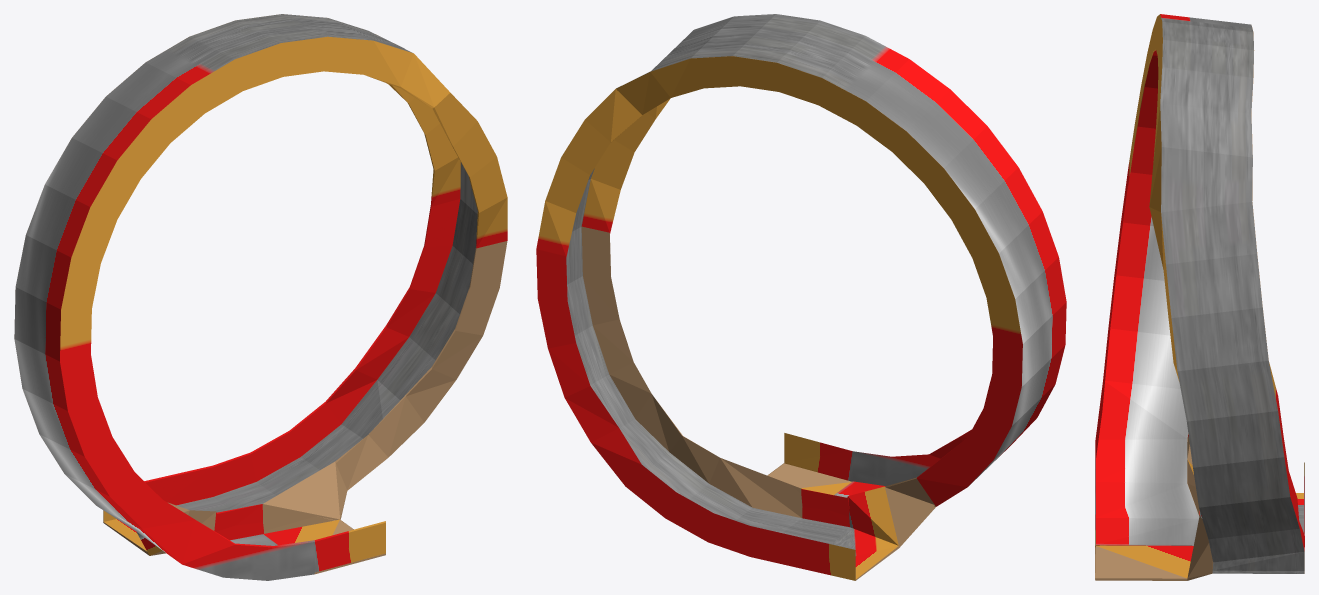
The model's file is LOOP3.obj.
The picture shows the model from 3 angles, left to right: view 1: azimuth 30°, elevation 25°; view 2: azimuth 150°, elevation 25°; view 3: azimuth 270°, elevation 25°; orthographic projection. The views are drawn at different scales.
Visible parts, largest first — view 1: Cylinder; view 2: Cylinder; view 3: Cylinder.
Boxes of the visible parts, left/top/right/bottom form: Cylinder: left=14, top=14, right=507, bottom=580; Cylinder: left=536, top=14, right=1066, bottom=580; Cylinder: left=1095, top=14, right=1304, bottom=580.
Bounding box in the file's own units: 12 × 12.2 × 4.56.
